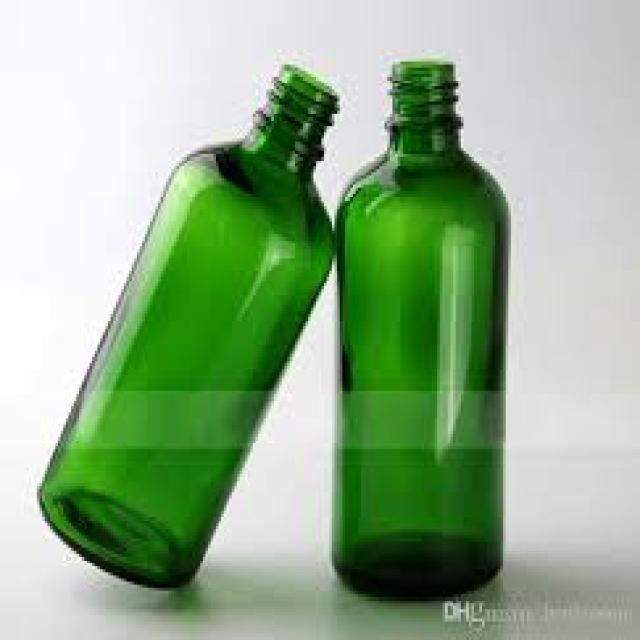Glass: (18, 51, 352, 620), (333, 55, 509, 606)
